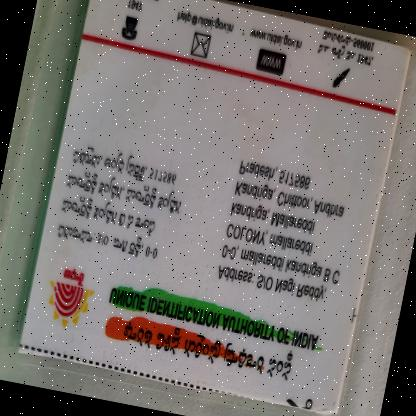aadhaar_card: (12, 0, 415, 415)
